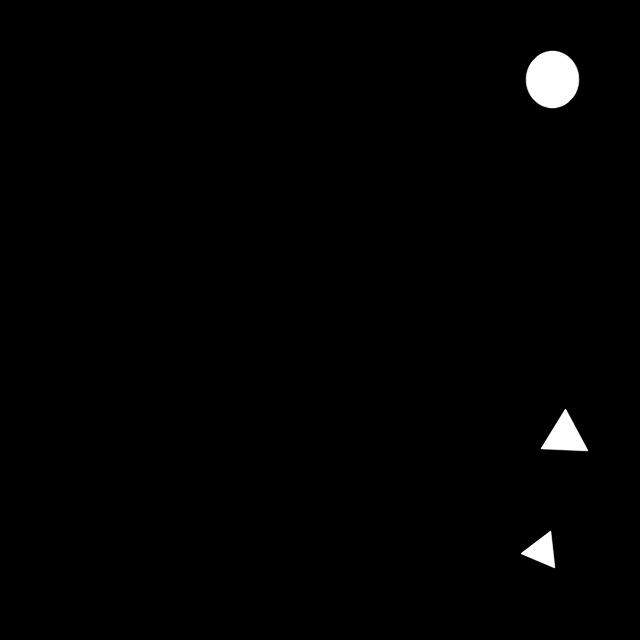Circle: (515, 44, 587, 121)
Triangle: (526, 395, 598, 465), (506, 521, 572, 585)
